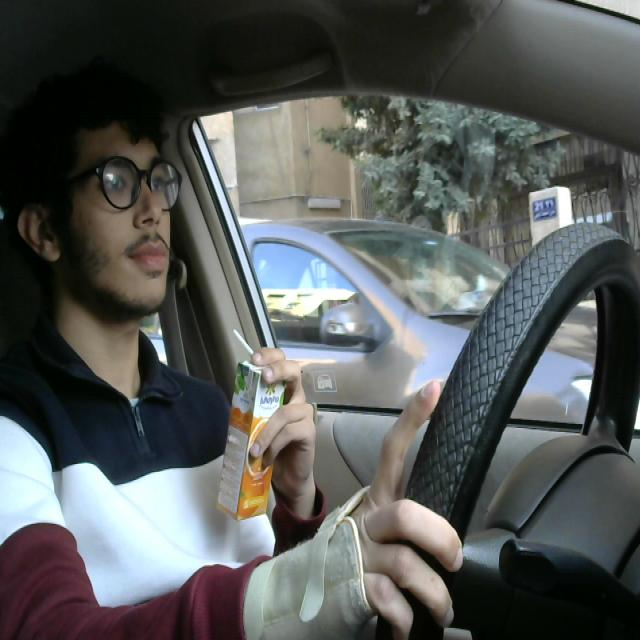drinking: (212, 324, 290, 530)
